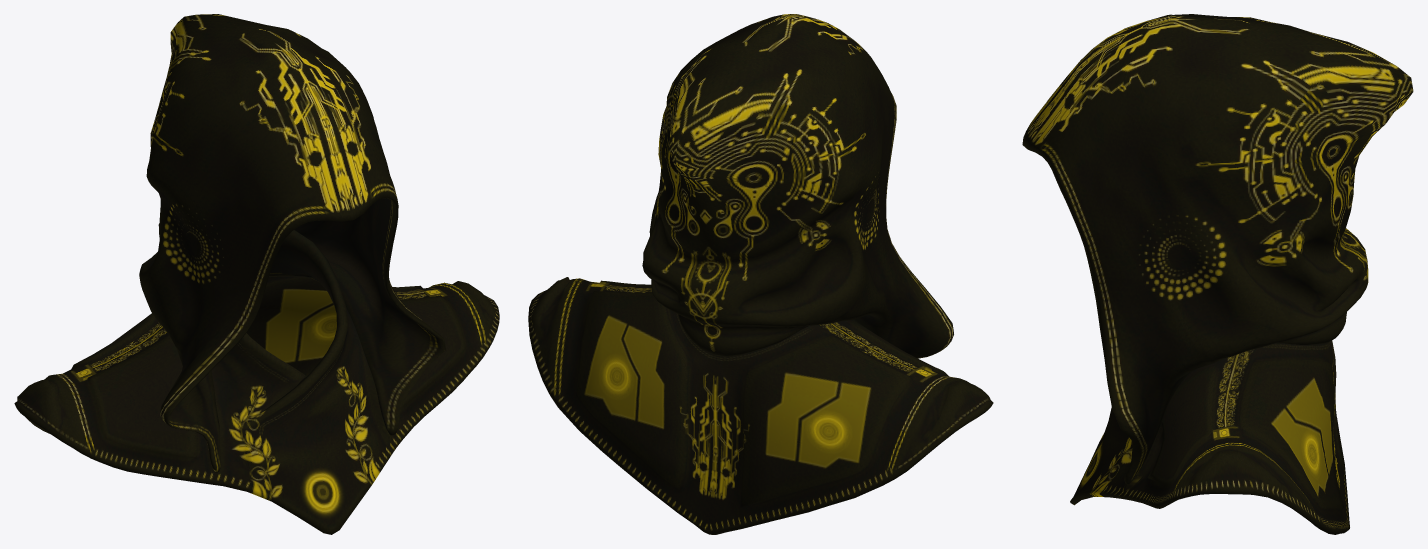
The model's file is KAPUSHON.fbx.
3 views of the same model, side by side, from view 1: azimuth 30°, elevation 25°; view 2: azimuth 150°, elevation 25°; view 3: azimuth 270°, elevation 25° (orthographic). The views are drawn at different scales.
Parts seen in each view (by area): view 1: kapushon; view 2: kapushon; view 3: kapushon.
Part boxes in pixels (bbox=[...]): kapushon: bbox=[14, 14, 499, 534]; kapushon: bbox=[528, 14, 993, 534]; kapushon: bbox=[1022, 14, 1413, 534].
Size of the model in its own units: 45.07 by 43.9 by 30.43.
